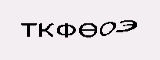Х: (84, 12, 104, 34)
Ч: (34, 18, 50, 44)
Ш: (48, 13, 72, 42), (107, 15, 130, 36)
Э: (71, 10, 86, 34)
